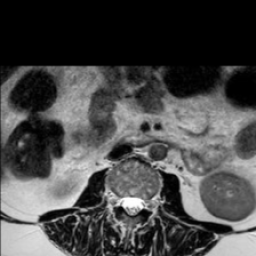CCS_normal: (128, 185, 136, 224)
LFS_normal: (145, 187, 153, 220)
LLS_normal: (136, 188, 145, 219)
RFS_normal: (112, 184, 120, 215)
RLS_normal: (120, 185, 128, 217)
